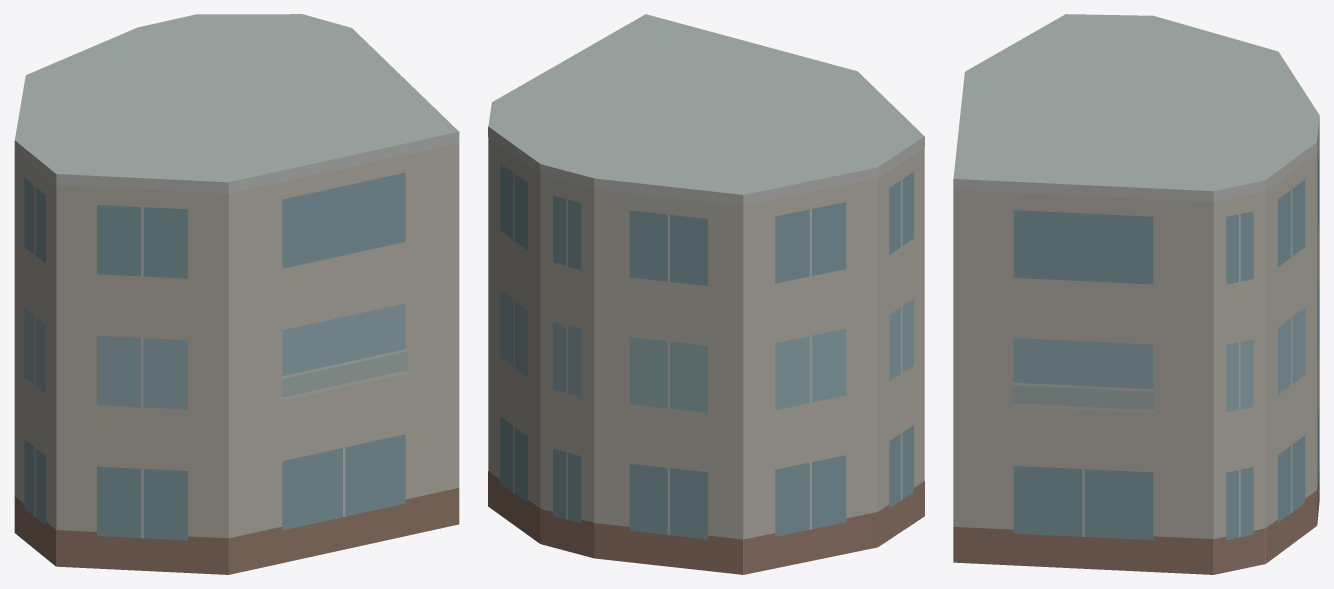
File: survey-upis-32918305.glb
3 views of the same model, side by side, from view 1: azimuth 30°, elevation 25°; view 2: azimuth 150°, elevation 25°; view 3: azimuth 270°, elevation 25° (orthographic). The views are drawn at different scales.
Parts seen in each view (by area): view 1: survey-upis-32918305.tmp; view 2: survey-upis-32918305.tmp; view 3: survey-upis-32918305.tmp.
Part boxes in pixels (box(x1,y1,x2,y2)): survey-upis-32918305.tmp: box(14, 14, 459, 574); survey-upis-32918305.tmp: box(488, 14, 924, 574); survey-upis-32918305.tmp: box(953, 14, 1319, 574).
Size of the model in its own units: 8.43 by 8.5 by 7.36.
